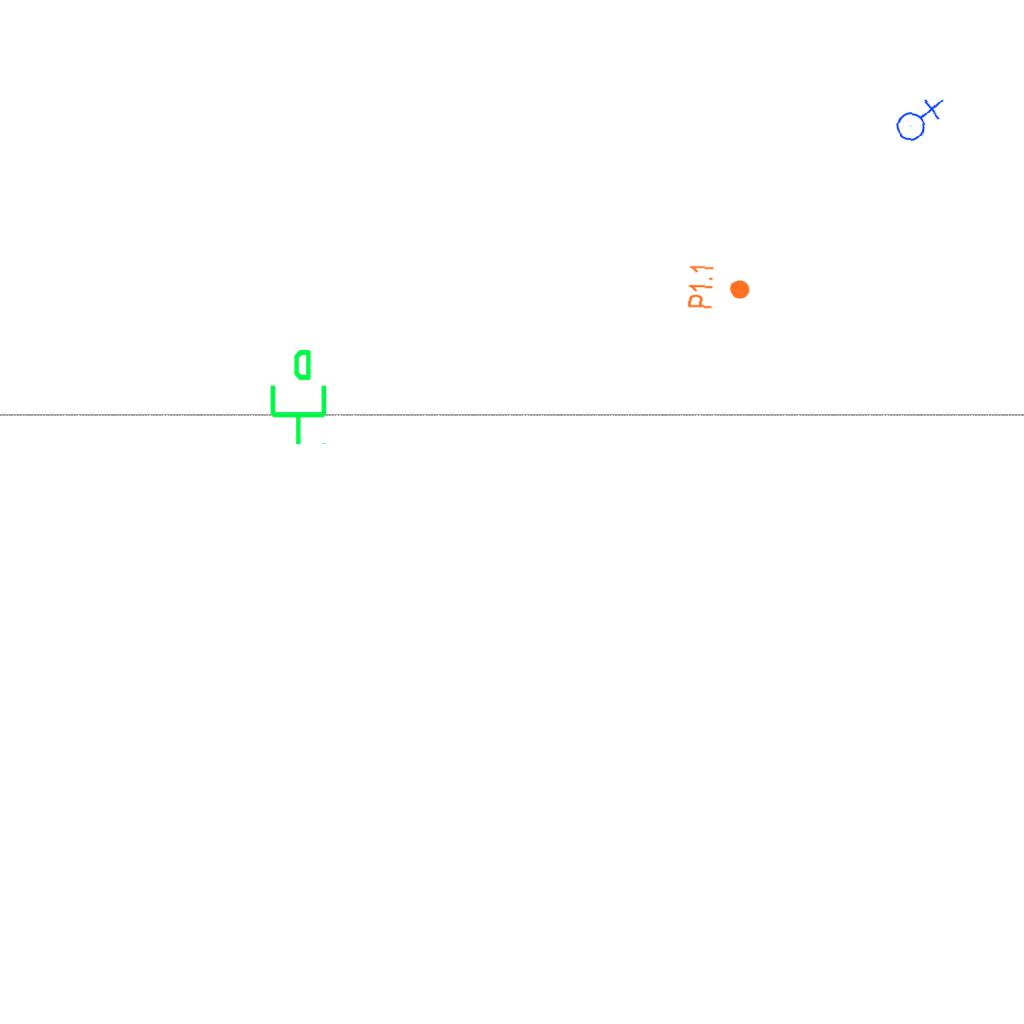Datenanschluss_einfach: (262, 347, 331, 447)
Downlight_LED_Einbauleuchten_Flur: (686, 262, 752, 312)
Elektroanschluss_allgemein_230V_Geraeteanschlussdose_230V: (891, 92, 944, 145)
